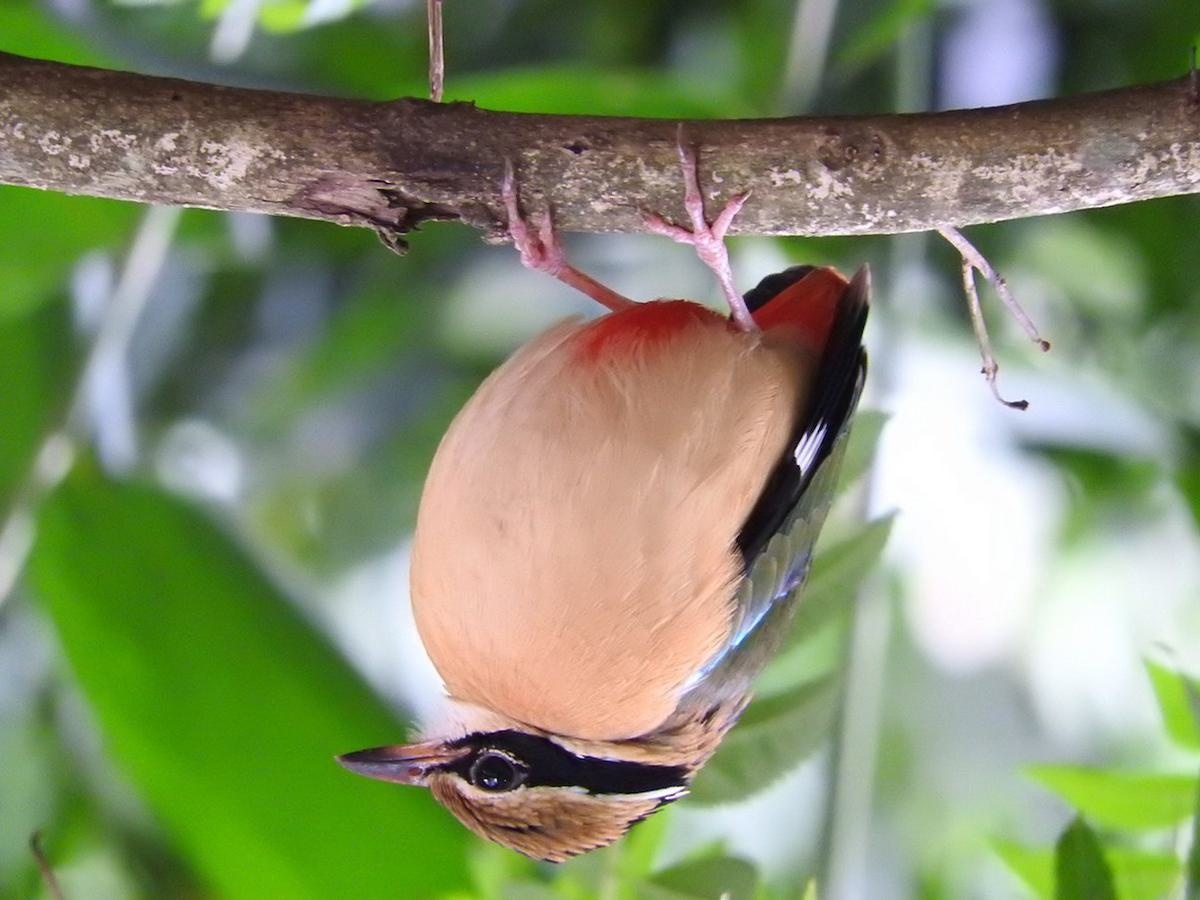pitta: (326, 166, 903, 872)
